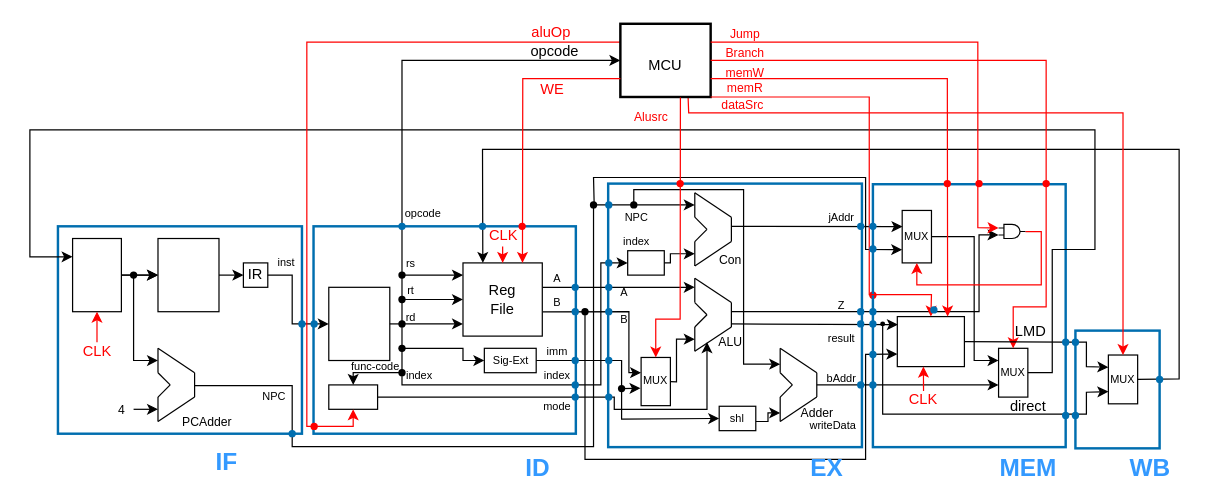
This 1210x504 diagram has some shape labels left out. Here are the shapes that lost their labels. From the top down, the centre of each, then its label:
the point at 96,274: PC
the point at 188,274: Inst Mem
the point at 645,262: shl-26
the point at 359,323: Inst Slice
the point at 930,341: Data Mem
the point at 401,348: offset
the point at 353,396: ALU-CU
